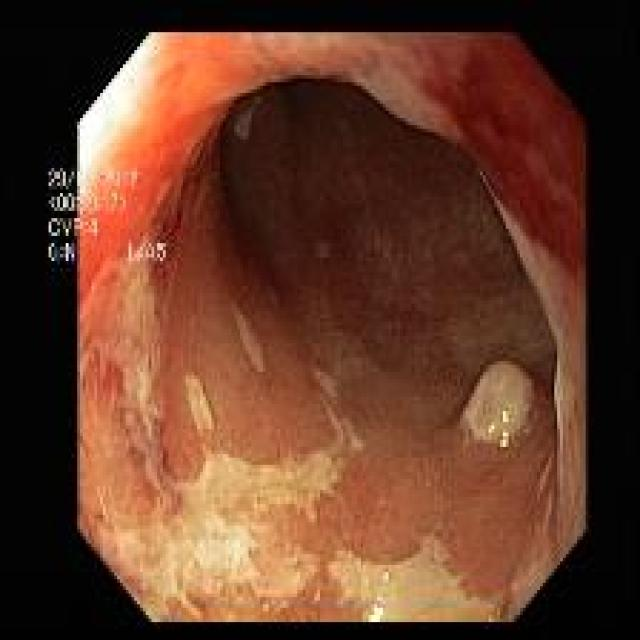ulcerative-colitis: (75, 260, 435, 617)
